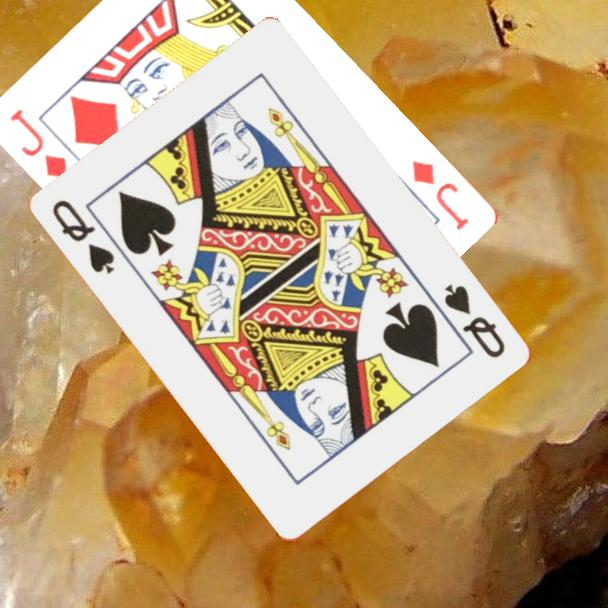d11: (7, 105, 72, 182), (409, 157, 473, 234)
s12: (49, 196, 119, 278), (441, 280, 509, 362)
